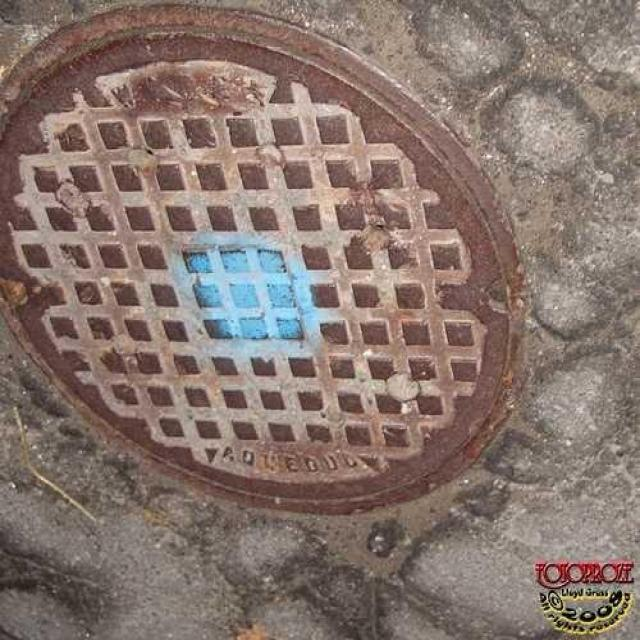manhole: (0, 6, 527, 517)
